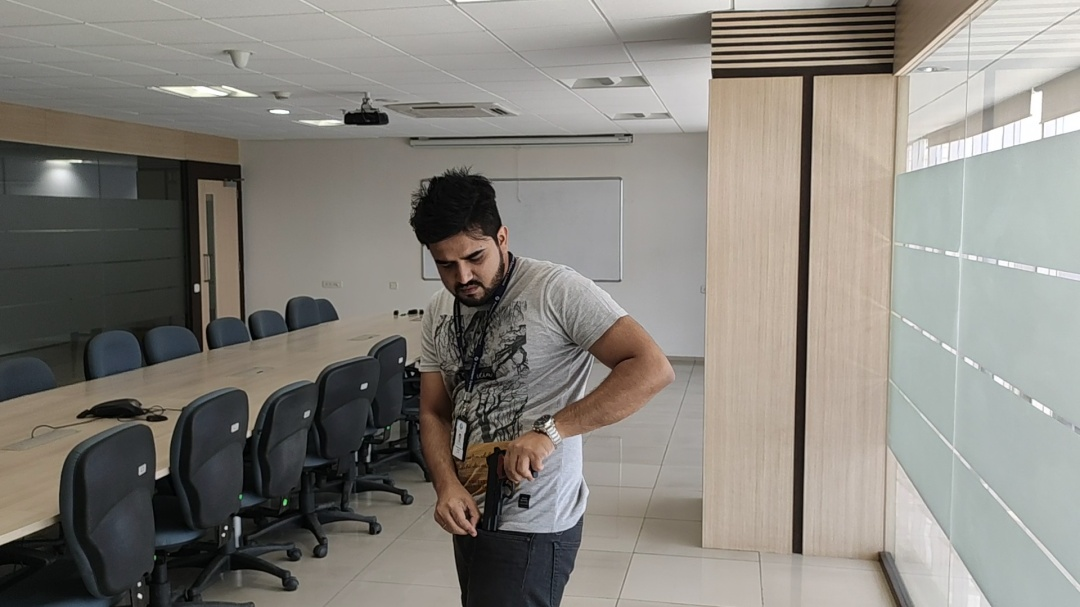gun: (292, 74, 906, 542)
